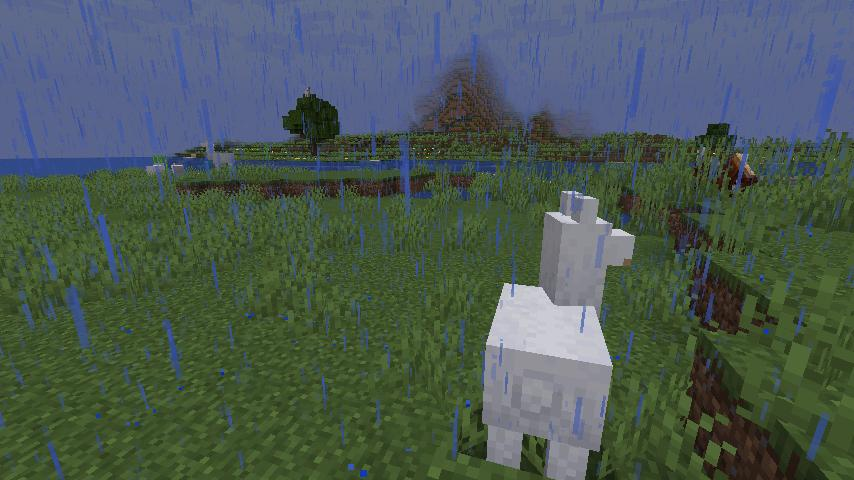llama: (479, 188, 634, 480)
